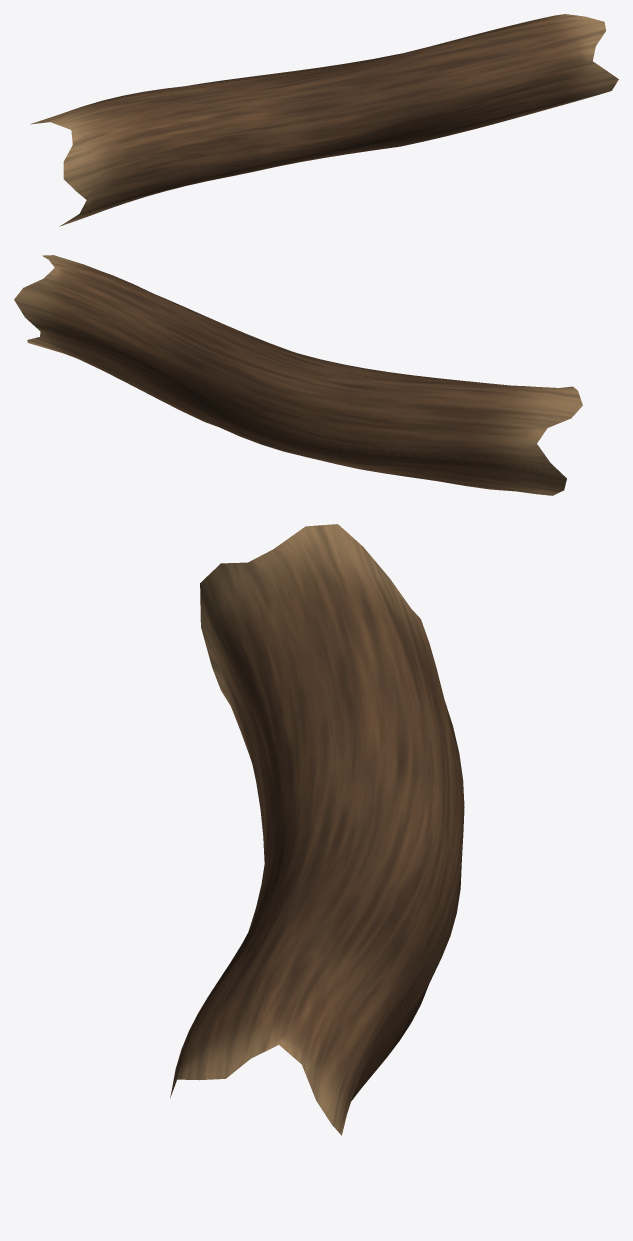
File: log_fallen_01.glb
3 renders of one model, top to bottom at view 1: azimuth 30°, elevation 25°; view 2: azimuth 150°, elevation 25°; view 3: azimuth 270°, elevation 25°, orthographic. The views are drawn at different scales.
Visible parts, largest first — view 1: Log_Fallen_01; view 2: Log_Fallen_01; view 3: Log_Fallen_01.
Boxes of the visible parts, x1=… form: Log_Fallen_01: x1=30, y1=14, x2=618, y2=226; Log_Fallen_01: x1=14, y1=255, x2=582, y2=495; Log_Fallen_01: x1=170, y1=524, x2=464, y2=1135.
Size of what is drawn, in the model's own units: 2.41 by 0.422 by 0.5654.
1 material, 1 textured.
